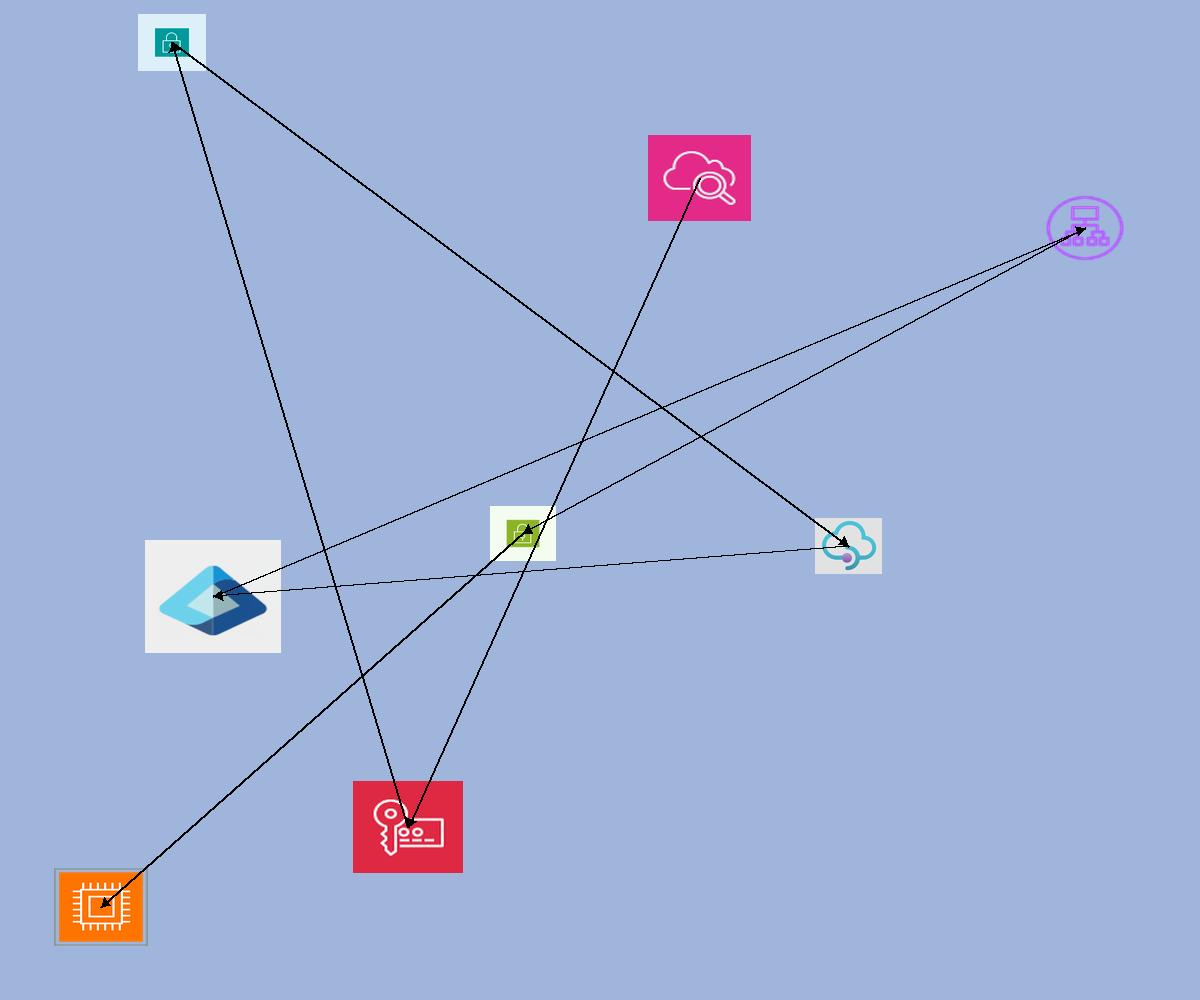AWS-Category_Compute: (54, 868, 148, 946)
AWS-CloudWatch: (648, 135, 751, 221)
AWS-Key-Management-Service: (353, 781, 463, 873)
AWS-Private-subnet: (138, 14, 206, 71)
AWS-Public-subnet: (490, 506, 556, 561)
AWS-Res_Elastic-Load-Balancing_Application-Load-Balancer: (1043, 193, 1127, 263)
Azure_api_gateway: (815, 518, 882, 574)
Azure_microsoft_entra: (145, 540, 281, 653)
